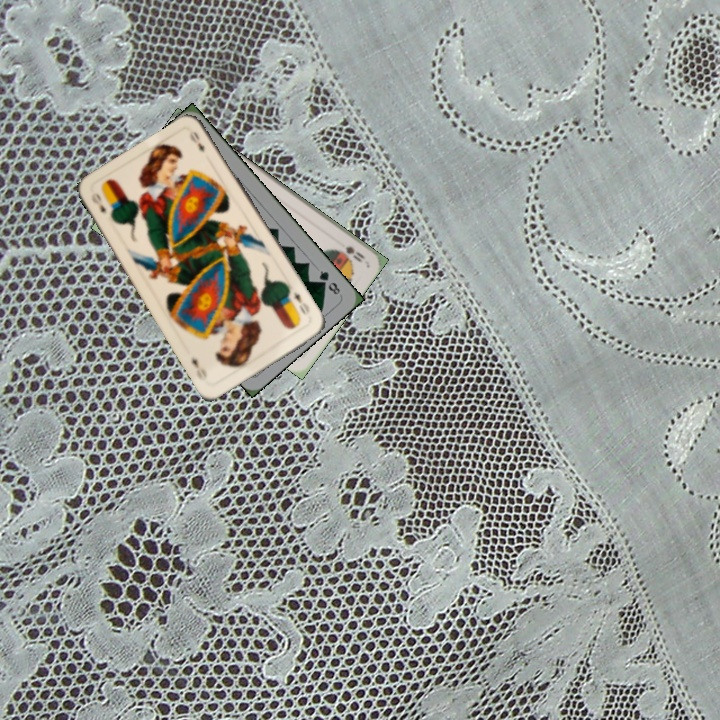EO: (289, 288, 311, 318), (87, 188, 108, 215)
G8: (315, 266, 343, 298)
SO: (341, 242, 367, 265)
